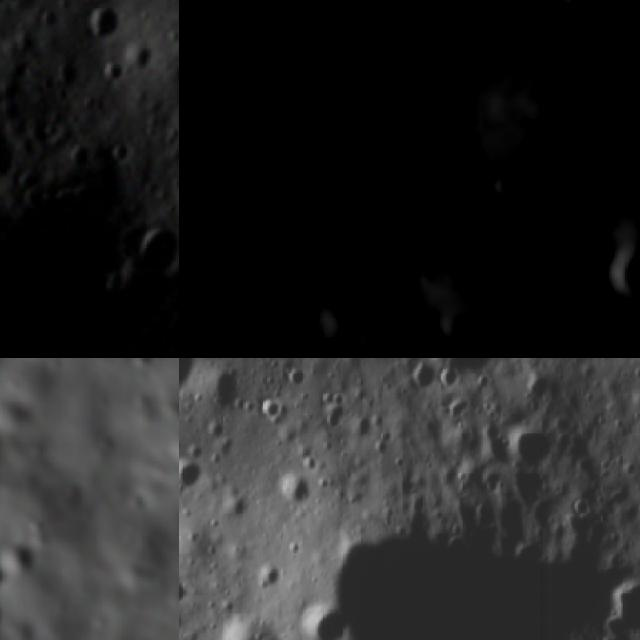crater: (0, 70, 179, 358), (314, 511, 640, 640), (404, 171, 607, 358), (463, 0, 640, 211), (316, 253, 459, 358), (265, 0, 389, 72), (204, 21, 296, 109), (308, 177, 395, 266), (235, 194, 320, 278), (584, 219, 640, 323), (179, 2, 227, 115), (208, 317, 335, 358), (305, 282, 378, 352), (385, 358, 531, 392), (120, 209, 179, 289), (212, 259, 280, 328), (0, 113, 50, 202), (454, 170, 518, 236), (70, 0, 136, 55), (528, 0, 620, 32), (114, 29, 167, 82), (570, 313, 627, 358), (0, 534, 42, 585), (93, 47, 137, 92), (179, 450, 211, 510), (179, 167, 207, 224), (218, 619, 294, 640), (419, 0, 476, 21), (155, 421, 179, 469)
